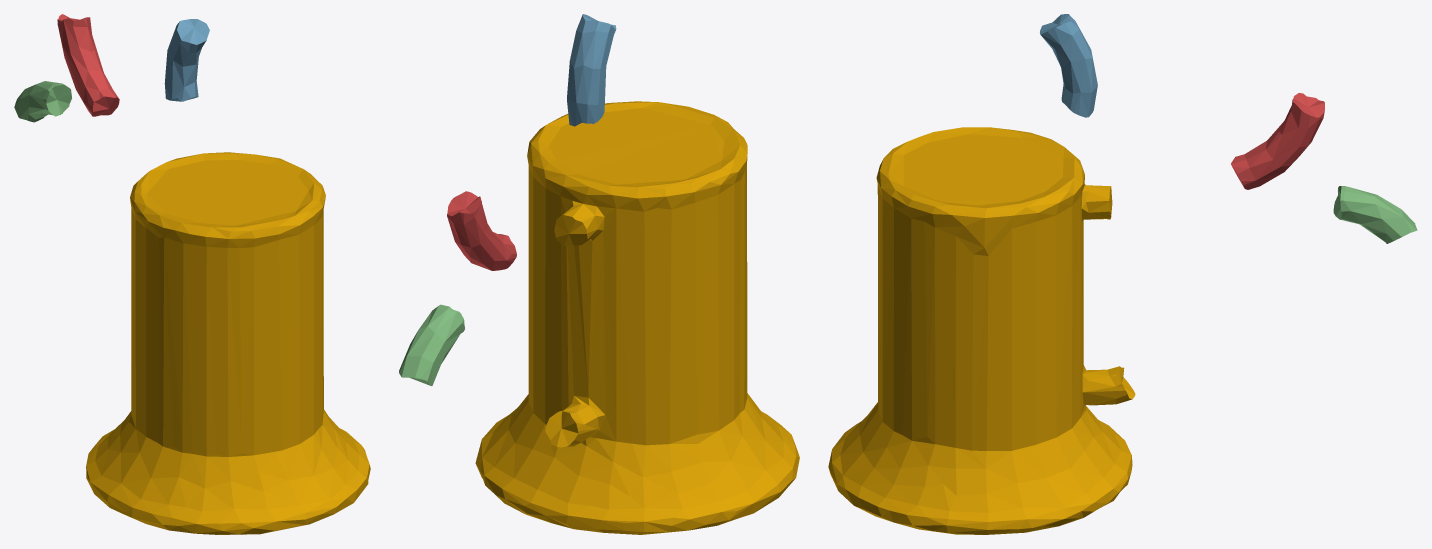
The model's file is fractured_63_4pcs_transformed.glb.
The picture shows the model from 3 angles, left to right: view 1: azimuth 30°, elevation 25°; view 2: azimuth 150°, elevation 25°; view 3: azimuth 270°, elevation 25°; orthographic projection. The views are drawn at different scales.
Visible parts, largest first — view 1: piece_0.obj, piece_1.obj, piece_2.obj, piece_3.obj; view 2: piece_0.obj, piece_2.obj, piece_1.obj, piece_3.obj; view 3: piece_0.obj, piece_1.obj, piece_2.obj, piece_3.obj.
Part boxes in pixels (left/top/right/bottom): piece_0.obj: left=86, top=152, right=370, bottom=534; piece_1.obj: left=57, top=14, right=119, bottom=116; piece_2.obj: left=164, top=19, right=209, bottom=101; piece_3.obj: left=14, top=81, right=71, bottom=122; piece_0.obj: left=475, top=101, right=799, bottom=534; piece_2.obj: left=567, top=14, right=616, bottom=126; piece_1.obj: left=447, top=191, right=516, bottom=270; piece_3.obj: left=399, top=304, right=464, bottom=385; piece_0.obj: left=828, top=127, right=1135, bottom=534; piece_1.obj: left=1231, top=93, right=1324, bottom=189; piece_2.obj: left=1040, top=14, right=1097, bottom=117; piece_3.obj: left=1333, top=186, right=1417, bottom=243.
Size of the model in its own units: 0.7907 by 1.31 by 1.53.
